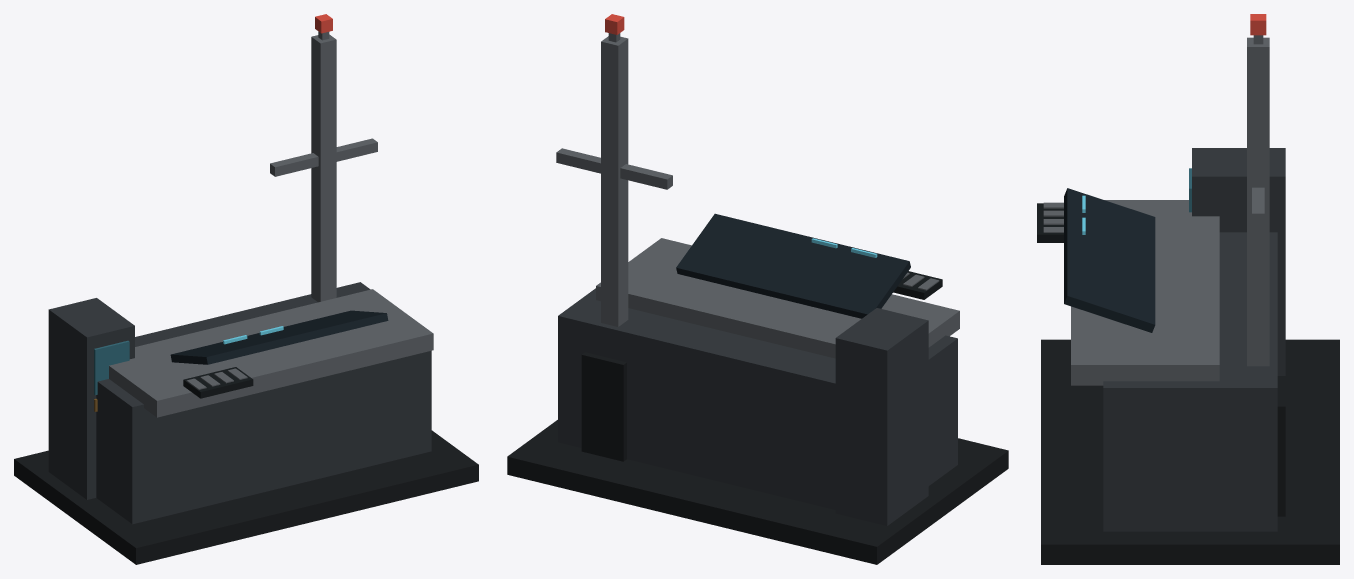
Rendered from comms.obj.
3 renders of one model, left to right at view 1: azimuth 30°, elevation 25°; view 2: azimuth 150°, elevation 25°; view 3: azimuth 270°, elevation 25°, orthographic. The views are drawn at different scales.
Parts seen in each view (by area): view 1: device_comms; view 2: device_comms; view 3: device_comms.
Part boxes in pixels (x1,y1,x2,y2): device_comms: (14,14,478,564); device_comms: (507,14,1008,564); device_comms: (1037,14,1339,564).
Bounding box in the file's own units: 3 × 3.47 × 1.88.
